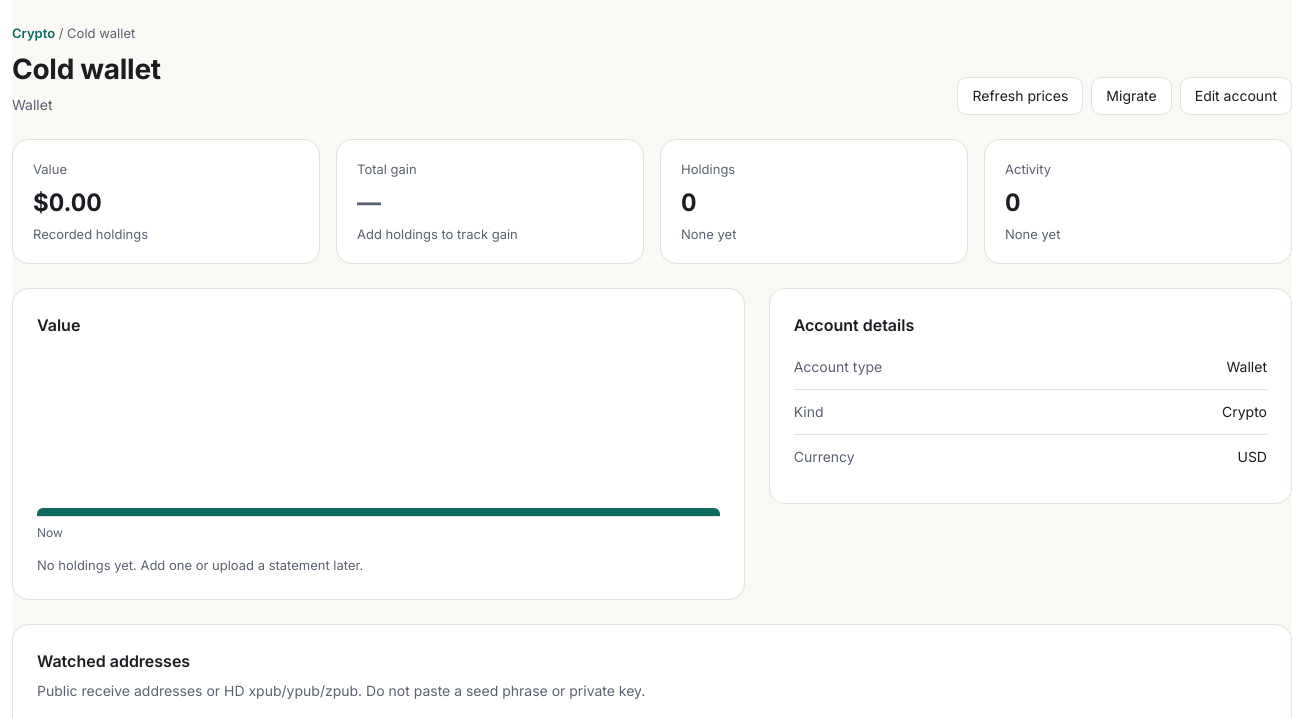
it: InvestmentDetailPage migrate › asks you to add a matching account when none exist
The image size is (1292, 718).
What coordinates should you click on to do the following:
click the button "Migrate"
I would click on:
 (1132, 96)
Its box is [1091,77,1172,115].
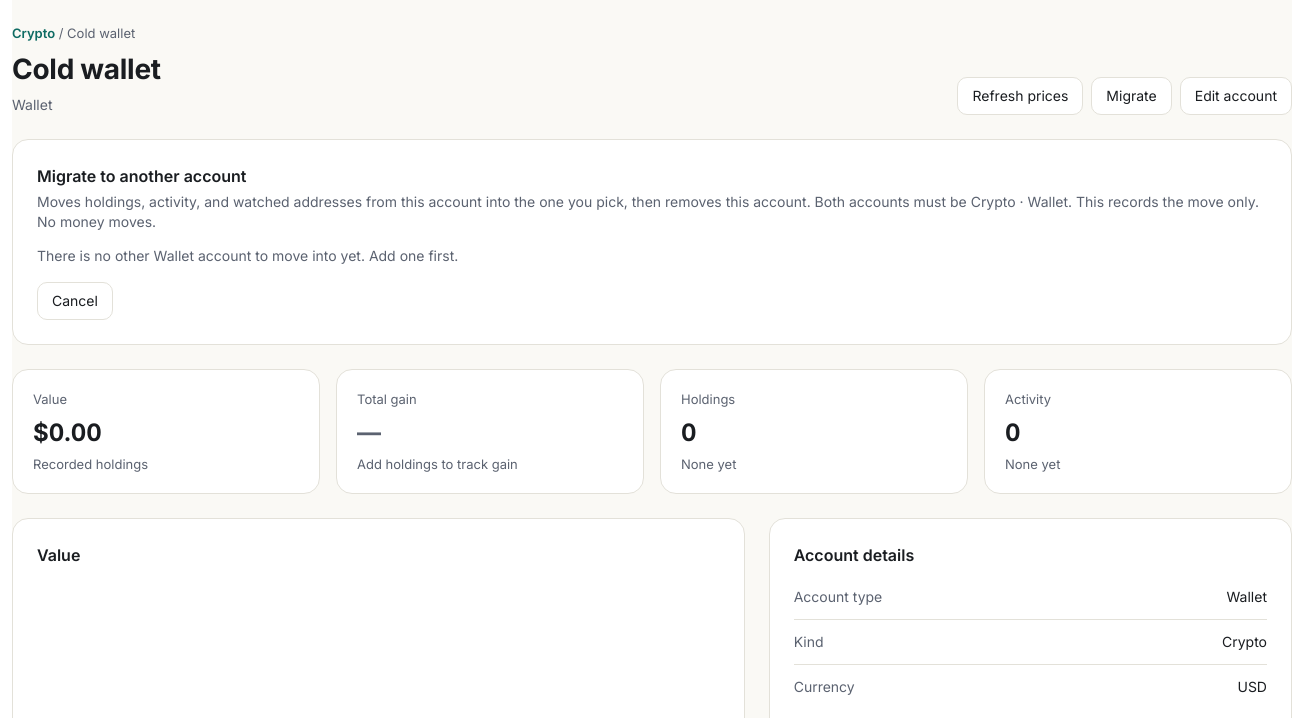
Expected: the heading "Migrate to another account" is shown, [37,166,246,186]
Expected: the text "Both accounts must be Crypto · Wallet" is shown, [37,192,1267,232]
Expected: the text "There is no other Wallet account to move into yet. Add one first." is shown, [37,247,458,264]
What coordinates should you click on to do the following:
click the button "Cancel"
I would click on:
 (75, 301)
Its box is [37,282,113,320].
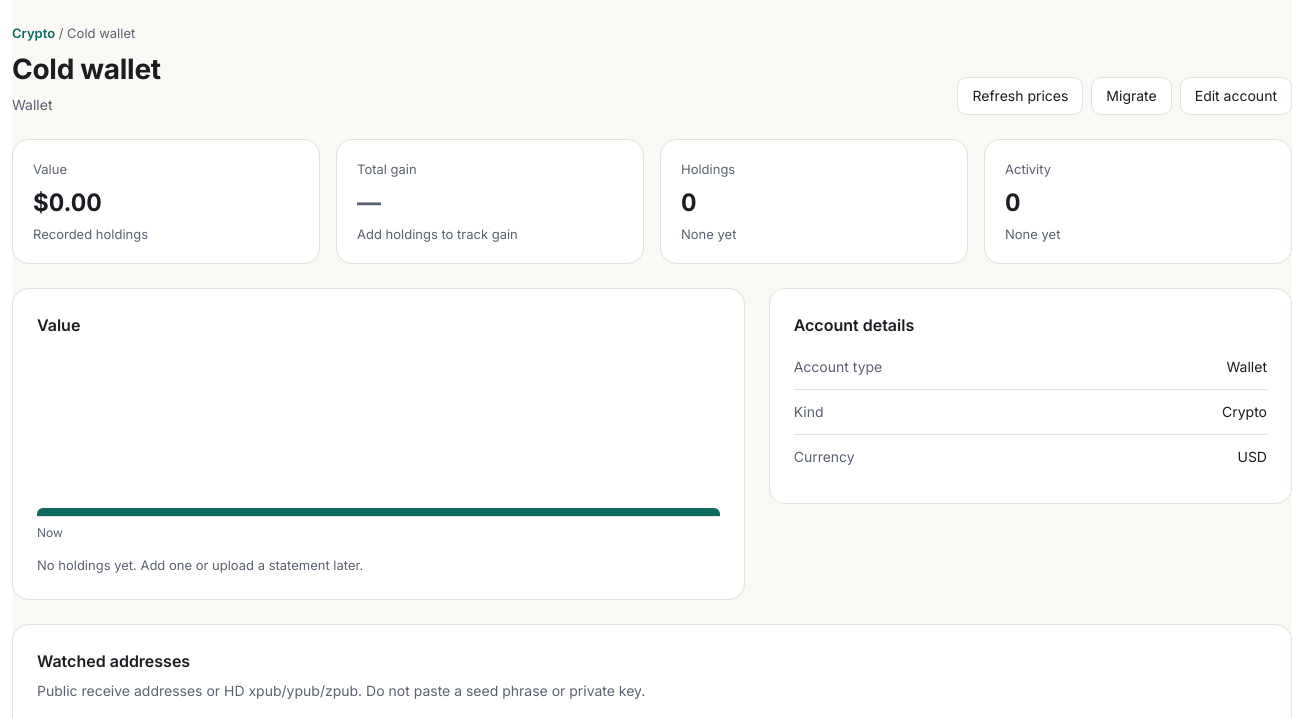
Expected: the heading "Migrate to another account" is gone
